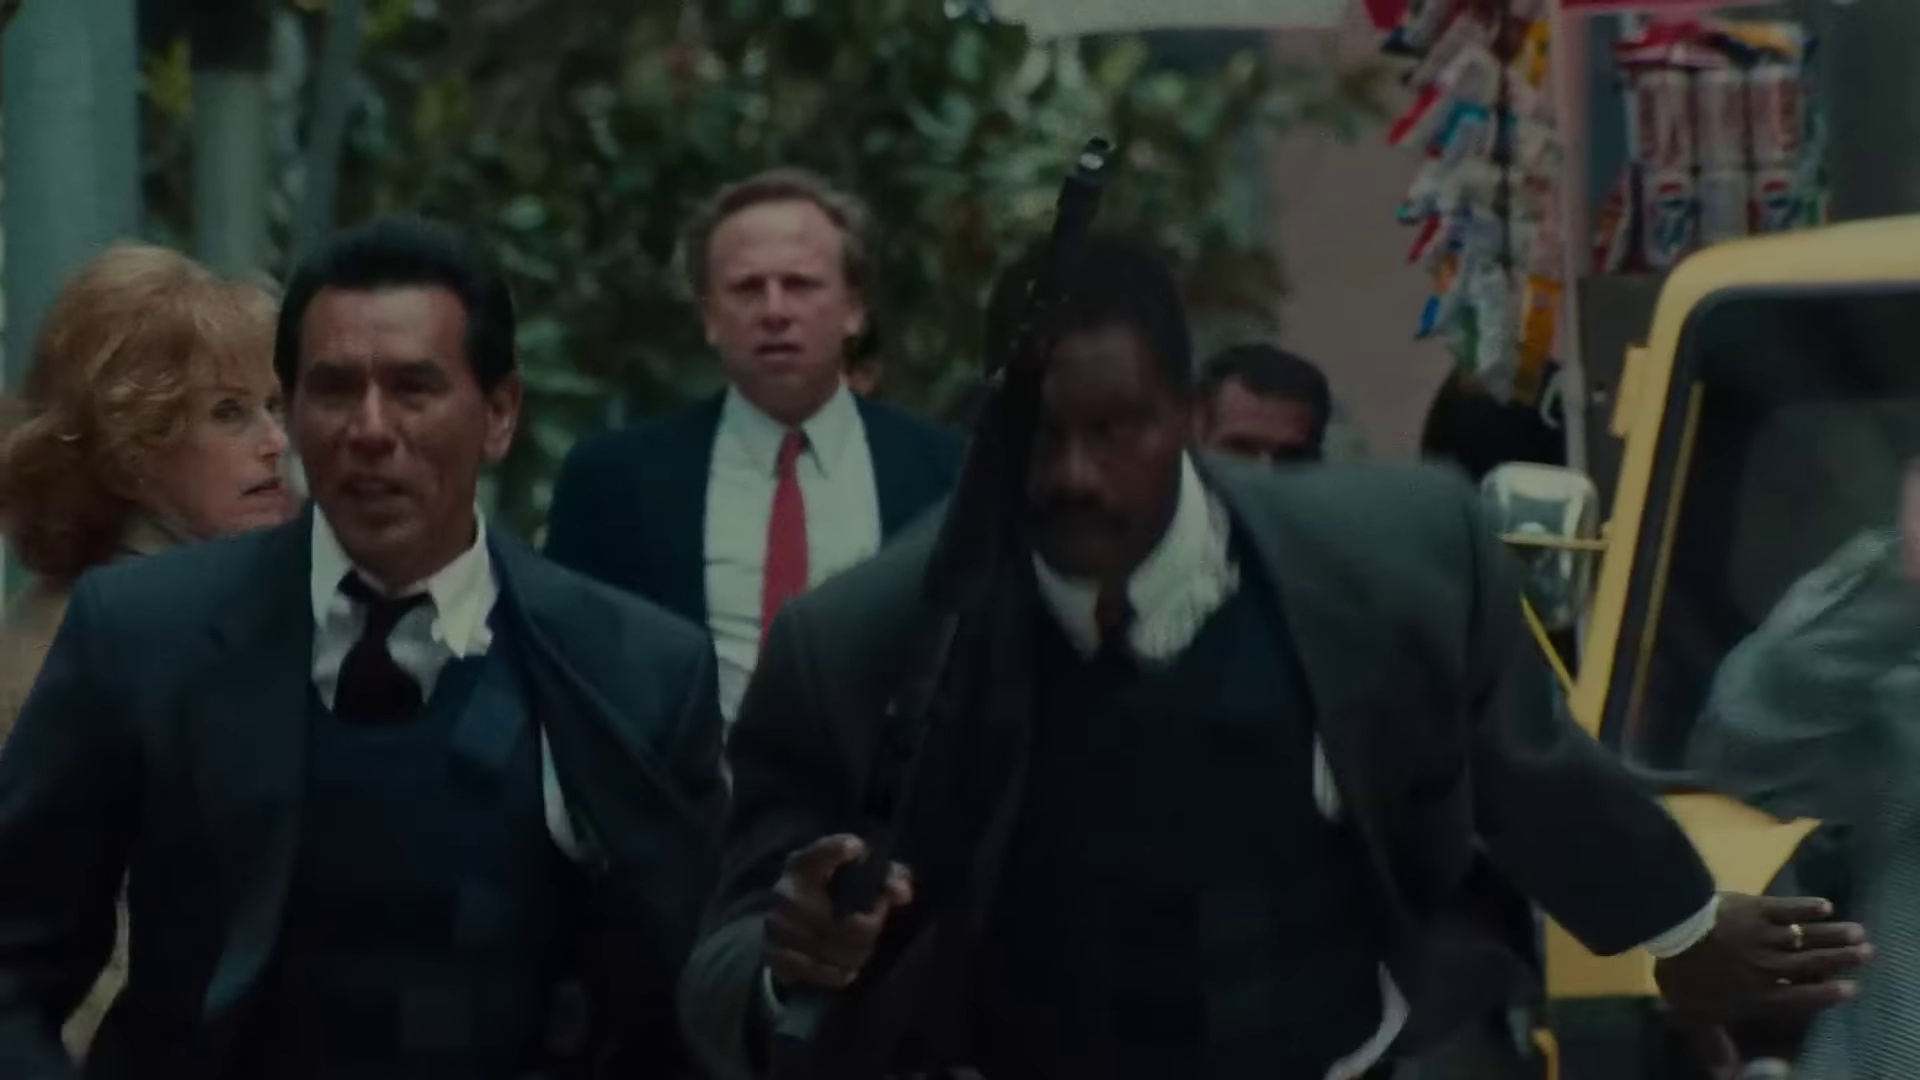gun: (824, 131, 1118, 944)
p_w_gun: (683, 129, 1873, 1080)
p_wo_gun_not_carrying_normal_pose: (0, 214, 740, 1080), (534, 165, 992, 673), (0, 229, 309, 849)
